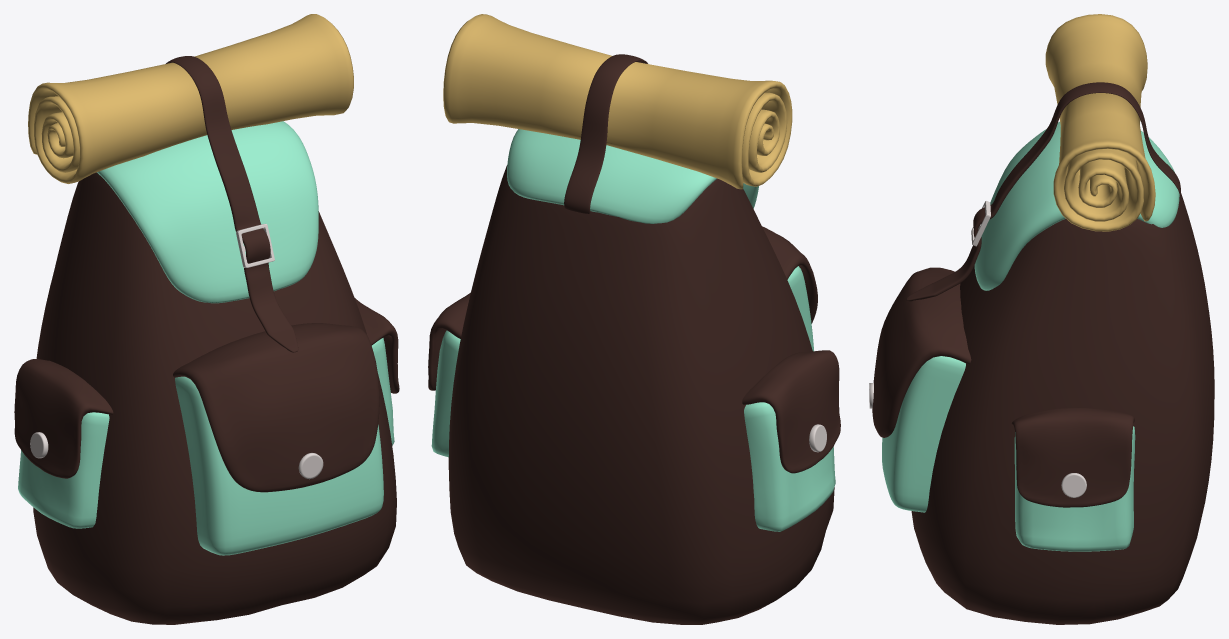
Rendered from backpack(sapsız).fbx.
The picture shows the model from 3 angles, left to right: view 1: azimuth 30°, elevation 25°; view 2: azimuth 150°, elevation 25°; view 3: azimuth 270°, elevation 25°; orthographic projection. The views are drawn at different scales.
Visible parts, largest first — view 1: Cube.001; view 2: Cube.001; view 3: Cube.001.
Part boxes in pixels (<box>): Cube.001: <box>14,14,399,624</box>; Cube.001: <box>428,14,840,624</box>; Cube.001: <box>869,14,1214,624</box>.
Size of the model in its own units: 353 by 502 by 312.
